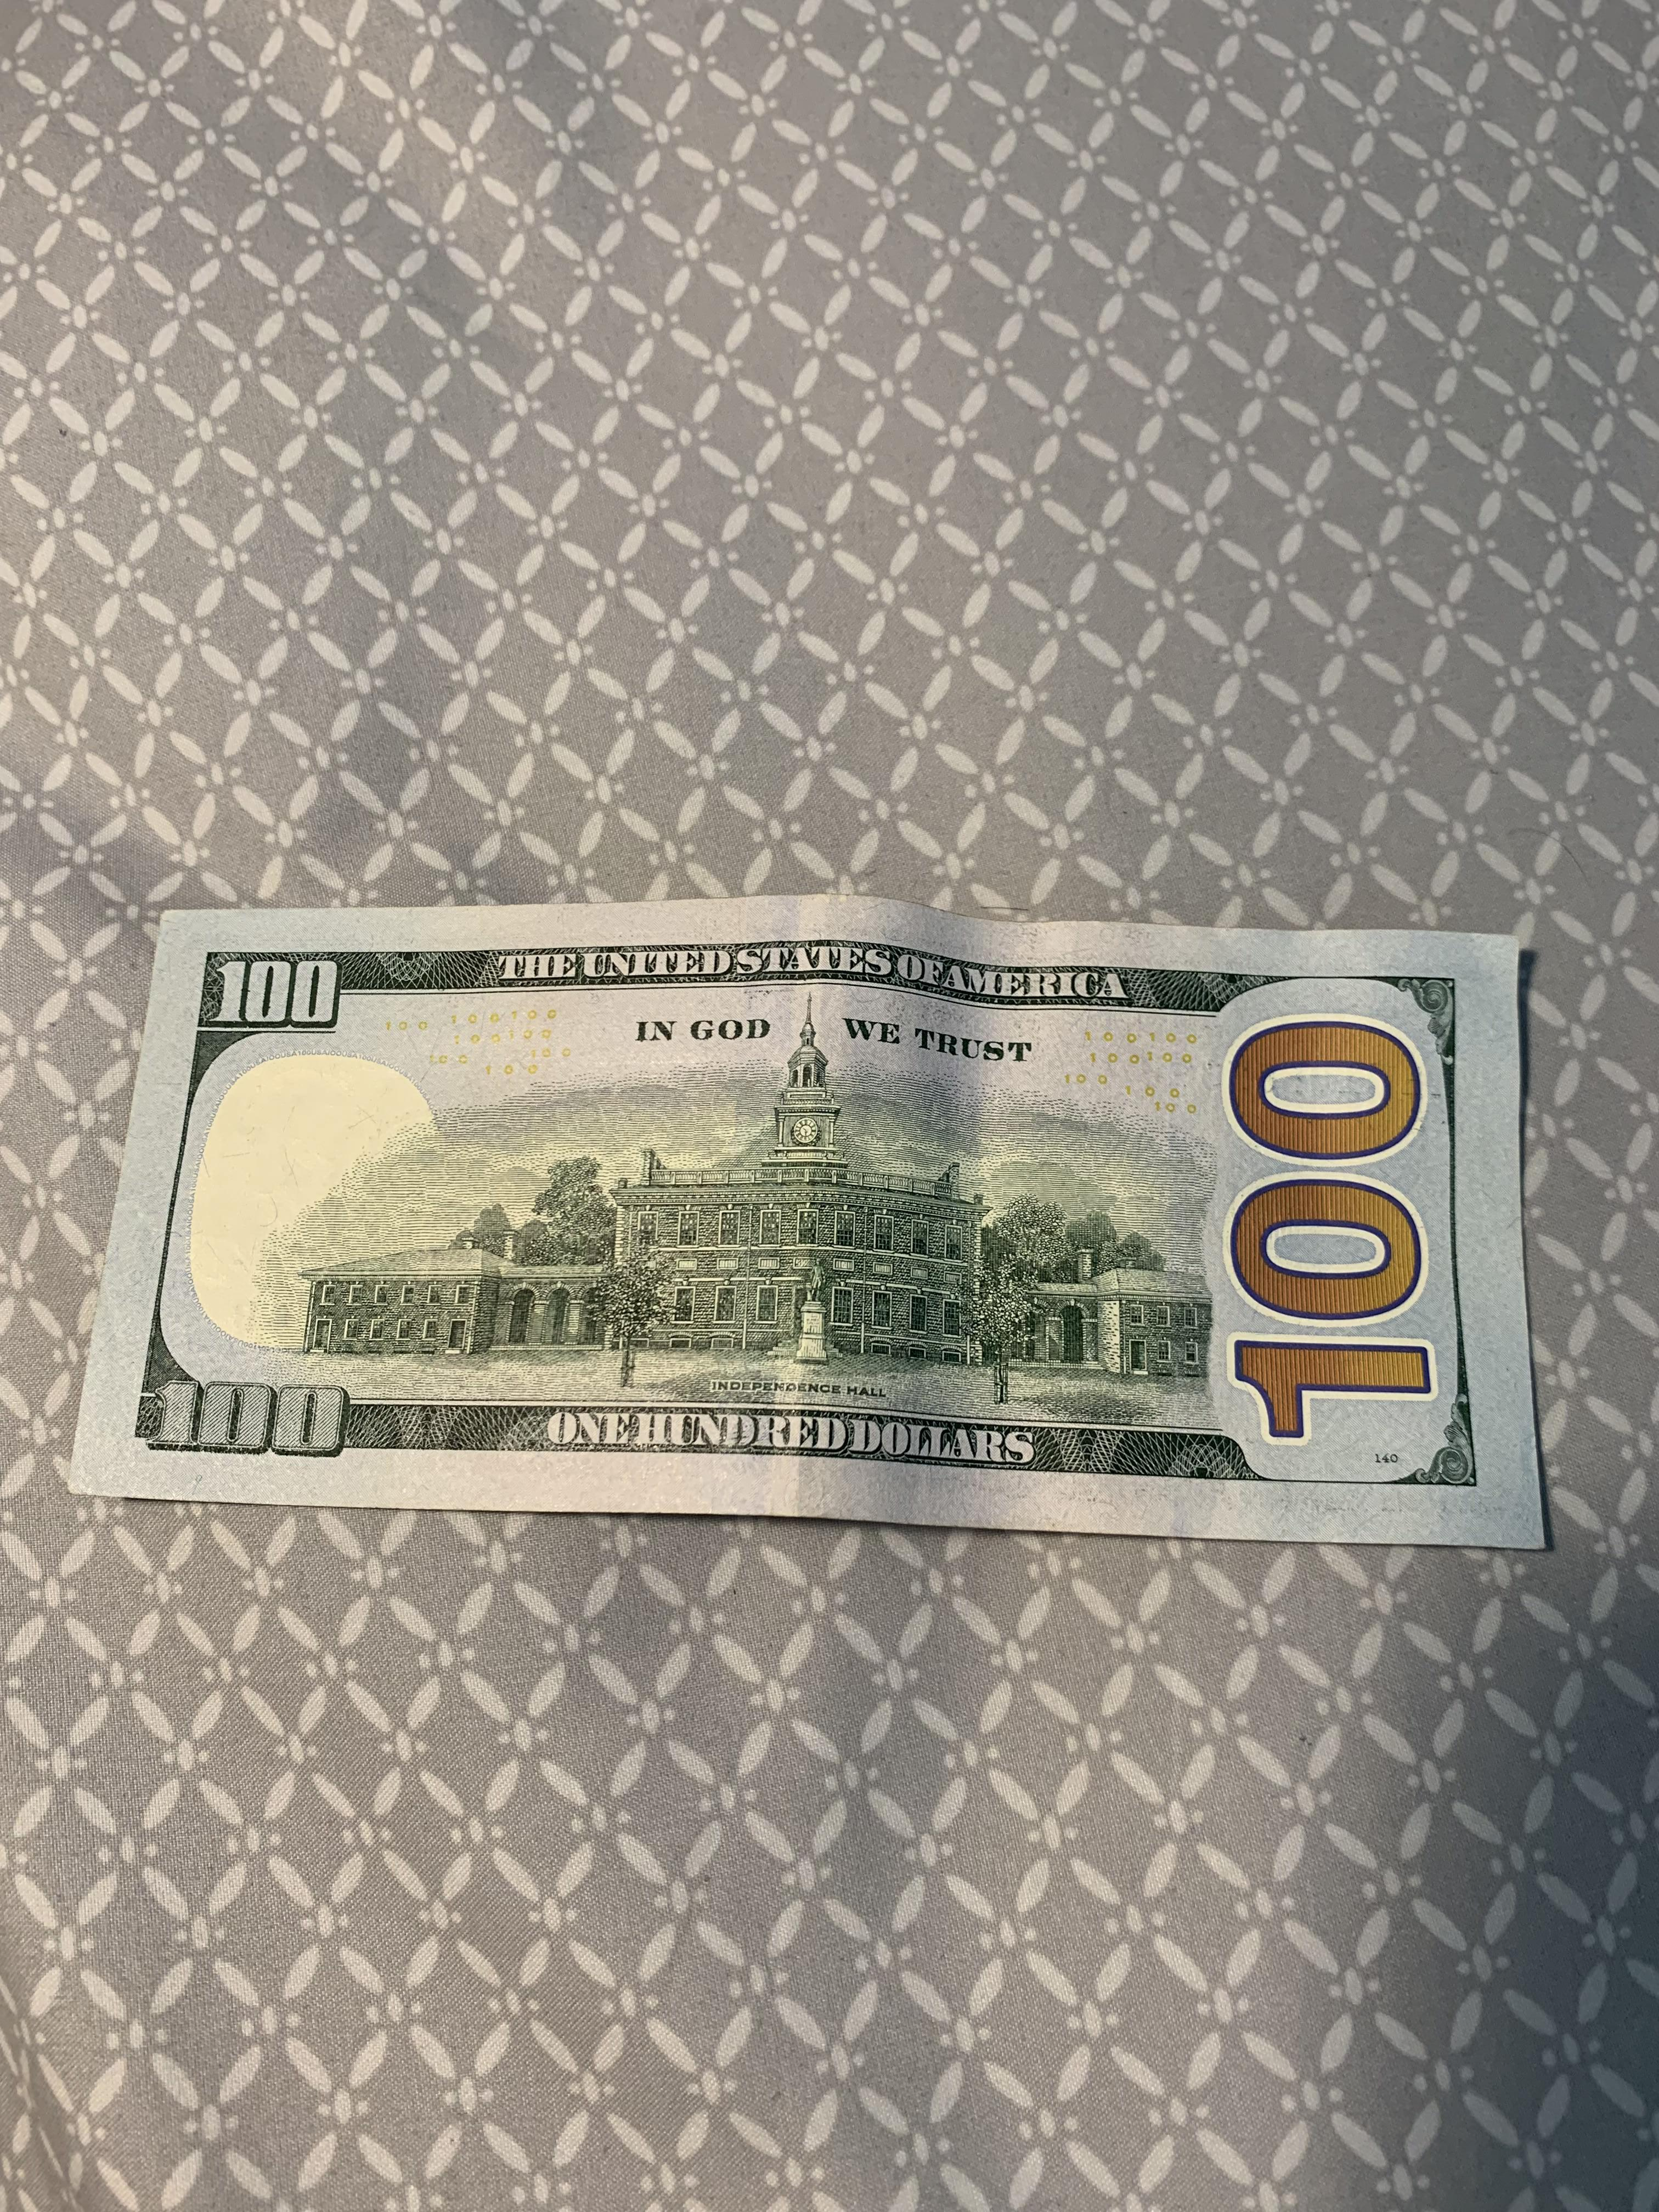HundredBill: (54, 883, 1579, 1569)
